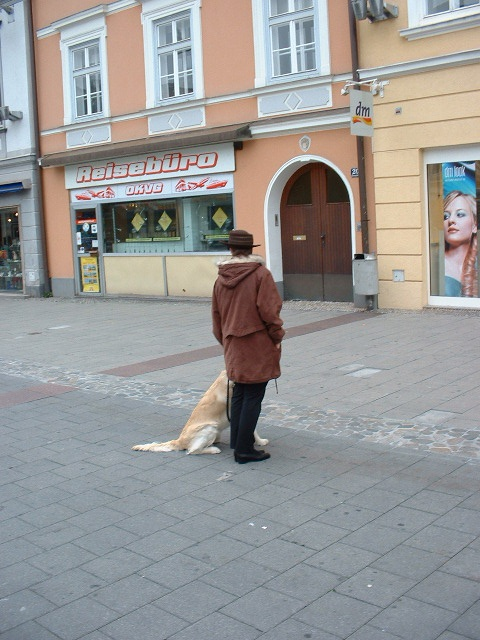person: (207, 224, 283, 462)
